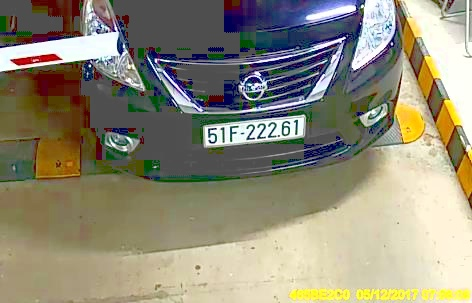plate: (203, 118, 305, 148)
